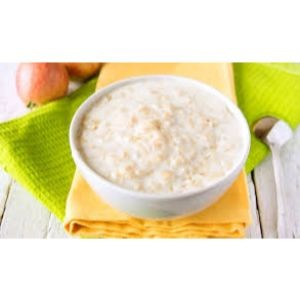oat_brain food: (89, 100, 233, 180)
